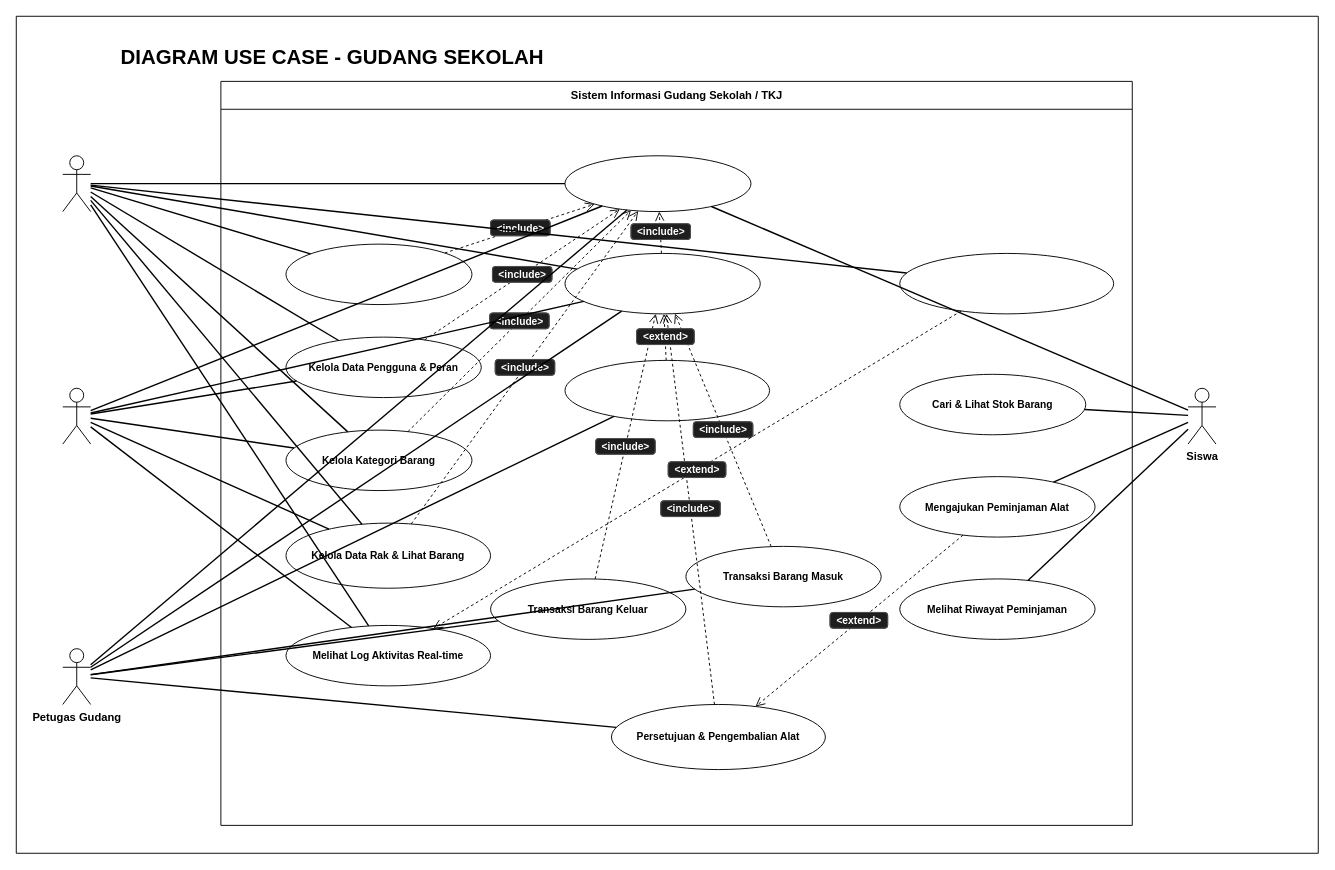
The diagram is 1335 pixels wide and 870 high, and some of its shapes have lost their labels. The shapes that lost their labels are listed below. From the top down, each one's centre as x and y in pixels, then its label:
At [76,183]: "Admin Sekolah".
At [657,183]: "Otentikasi & Login System".
At [378,274]: "Kelola Master Data Jurusan".
At [662,283]: "Kelola Master Data Barang".
At [1006,283]: "Export Data CSV & Cetak Laporan".
At [667,390]: "Scan Barcode & Shows Url Api".
At [76,415]: "Admin Jurusan".
